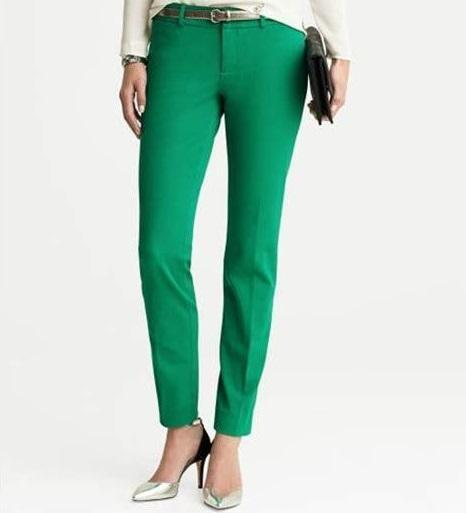pants: (139, 4, 308, 435)
